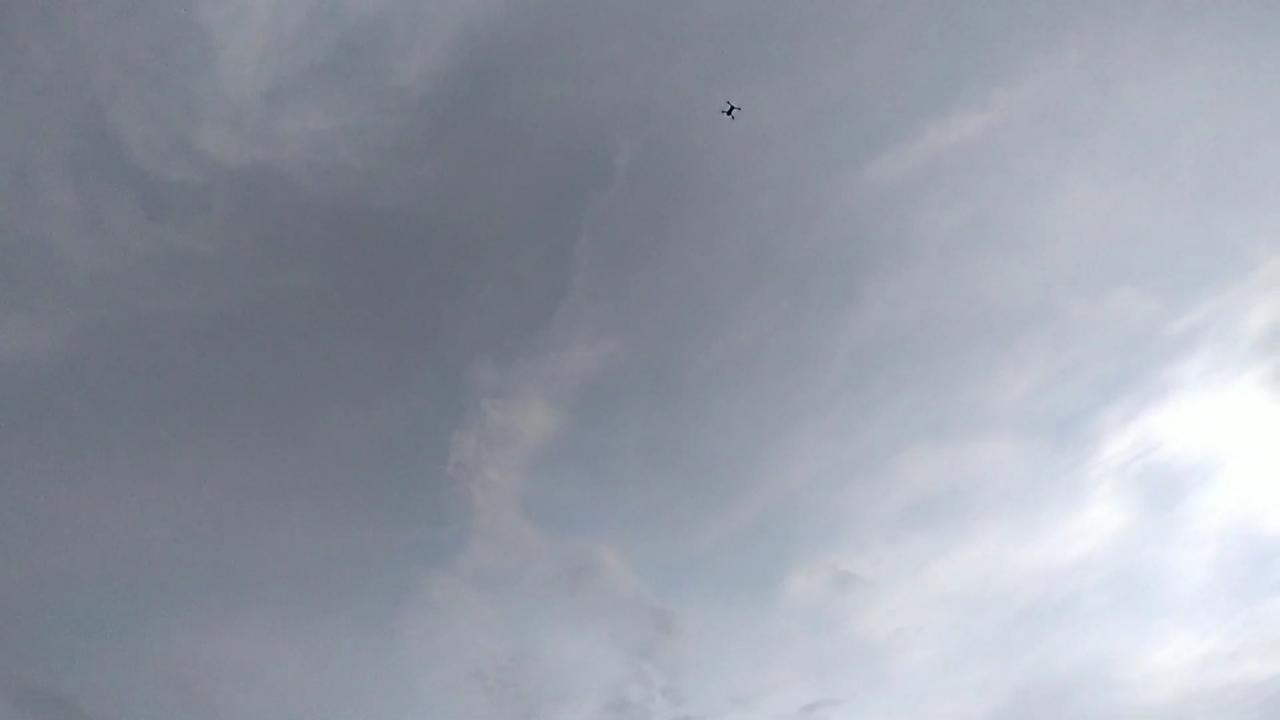Drone: (712, 94, 748, 128)
